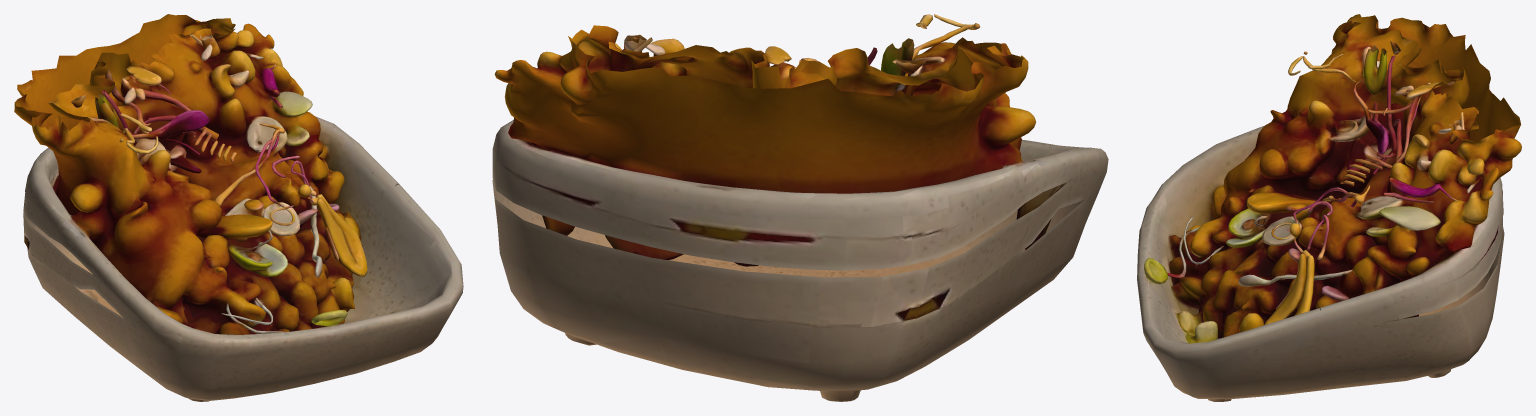
The model's file is corn-fritter-lite.glb.
3 views of the same model, side by side, from view 1: azimuth 30°, elevation 25°; view 2: azimuth 150°, elevation 25°; view 3: azimuth 270°, elevation 25° (orthographic). The views are drawn at different scales.
Visible parts, largest first — view 1: tripo_node_278c5c5c-d4af-41bc-bc59-02ed427a9170; view 2: tripo_node_278c5c5c-d4af-41bc-bc59-02ed427a9170; view 3: tripo_node_278c5c5c-d4af-41bc-bc59-02ed427a9170.
Part boxes in pixels (x1,y1,x2,y2): tripo_node_278c5c5c-d4af-41bc-bc59-02ed427a9170: (14, 14, 463, 401); tripo_node_278c5c5c-d4af-41bc-bc59-02ed427a9170: (492, 14, 1108, 401); tripo_node_278c5c5c-d4af-41bc-bc59-02ed427a9170: (1137, 14, 1521, 401).
Bounding box in the file's own units: 0.2 × 0.1393 × 0.1898.
1 material, 1 textured.
